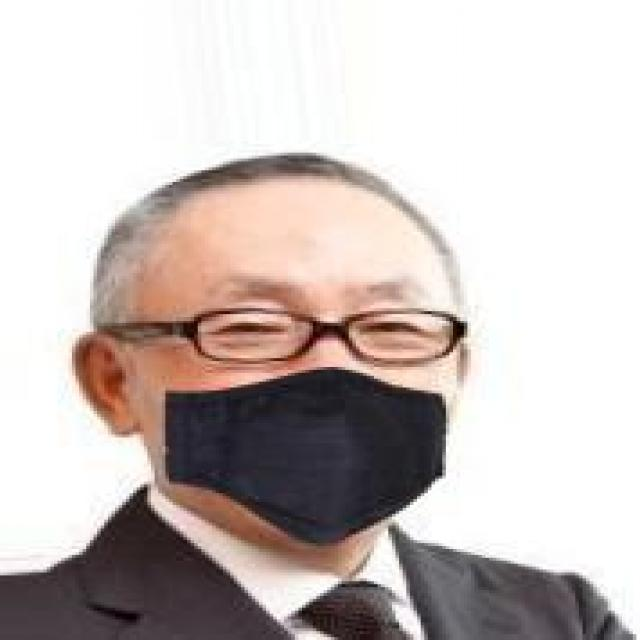mask: (79, 155, 550, 572)
